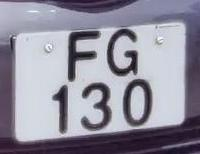0: (118, 75, 158, 131)
1: (45, 78, 76, 141)
3: (77, 77, 117, 137)
F: (64, 27, 105, 85)
G: (102, 23, 145, 82)
